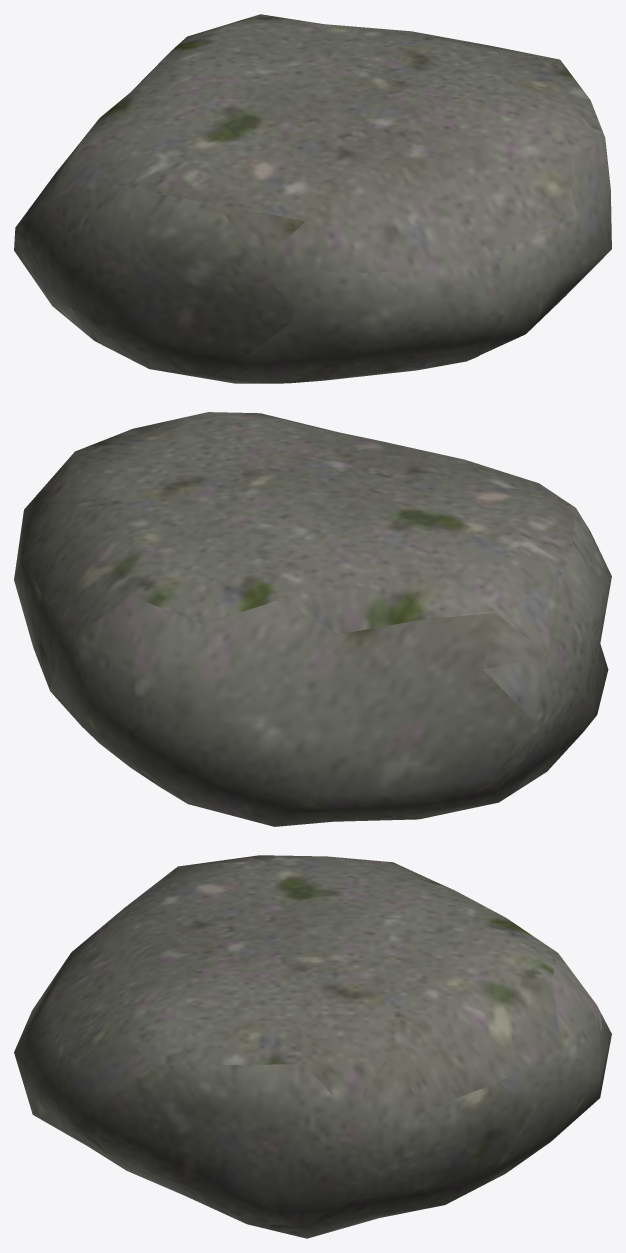
The model's file is granite-pond-edge-stone-2-lod1.glb.
The picture shows the model from 3 angles, top to bottom: view 1: azimuth 30°, elevation 25°; view 2: azimuth 150°, elevation 25°; view 3: azimuth 270°, elevation 25°; orthographic projection. The views are drawn at different scales.
Visible parts, largest first — view 1: edge_stone_2_lod1; view 2: edge_stone_2_lod1; view 3: edge_stone_2_lod1.
Boxes of the visible parts, x1=… form: edge_stone_2_lod1: x1=14, y1=14, x2=611, y2=383; edge_stone_2_lod1: x1=14, y1=412, x2=611, y2=826; edge_stone_2_lod1: x1=14, y1=855, x2=611, y2=1238.
Bounding box in the file's own units: 0.6314 × 0.251 × 0.6369.
Materials: 1 (1 with a texture image).
